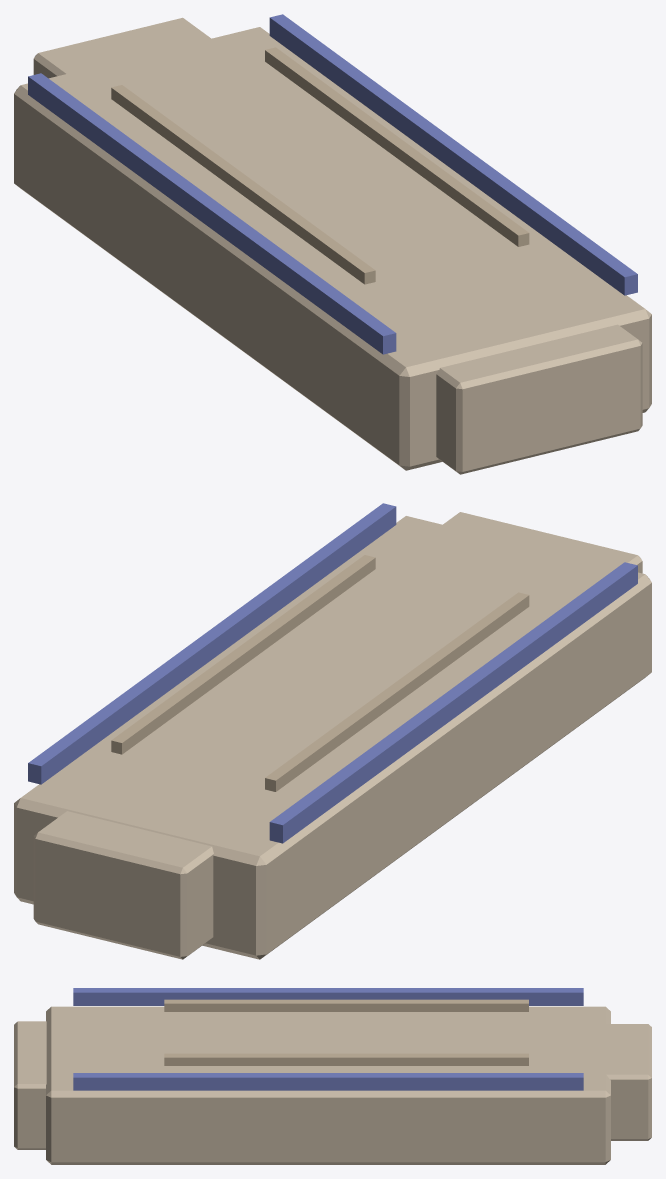
Rendered from rowboat_01.glb.
3 renders of one model, top to bottom at view 1: azimuth 30°, elevation 25°; view 2: azimuth 150°, elevation 25°; view 3: azimuth 270°, elevation 25°, orthographic. The views are drawn at different scales.
Parts seen in each view (by area): view 1: rowboat_01; view 2: rowboat_01; view 3: rowboat_01.
Part boxes in pixels (left/top/right/bottom): rowboat_01: left=14, top=14, right=651, bottom=474; rowboat_01: left=14, top=503, right=651, bottom=959; rowboat_01: left=14, top=988, right=651, bottom=1164.
Bounding box in the file's own units: 1.16 × 0.57 × 3.5.
